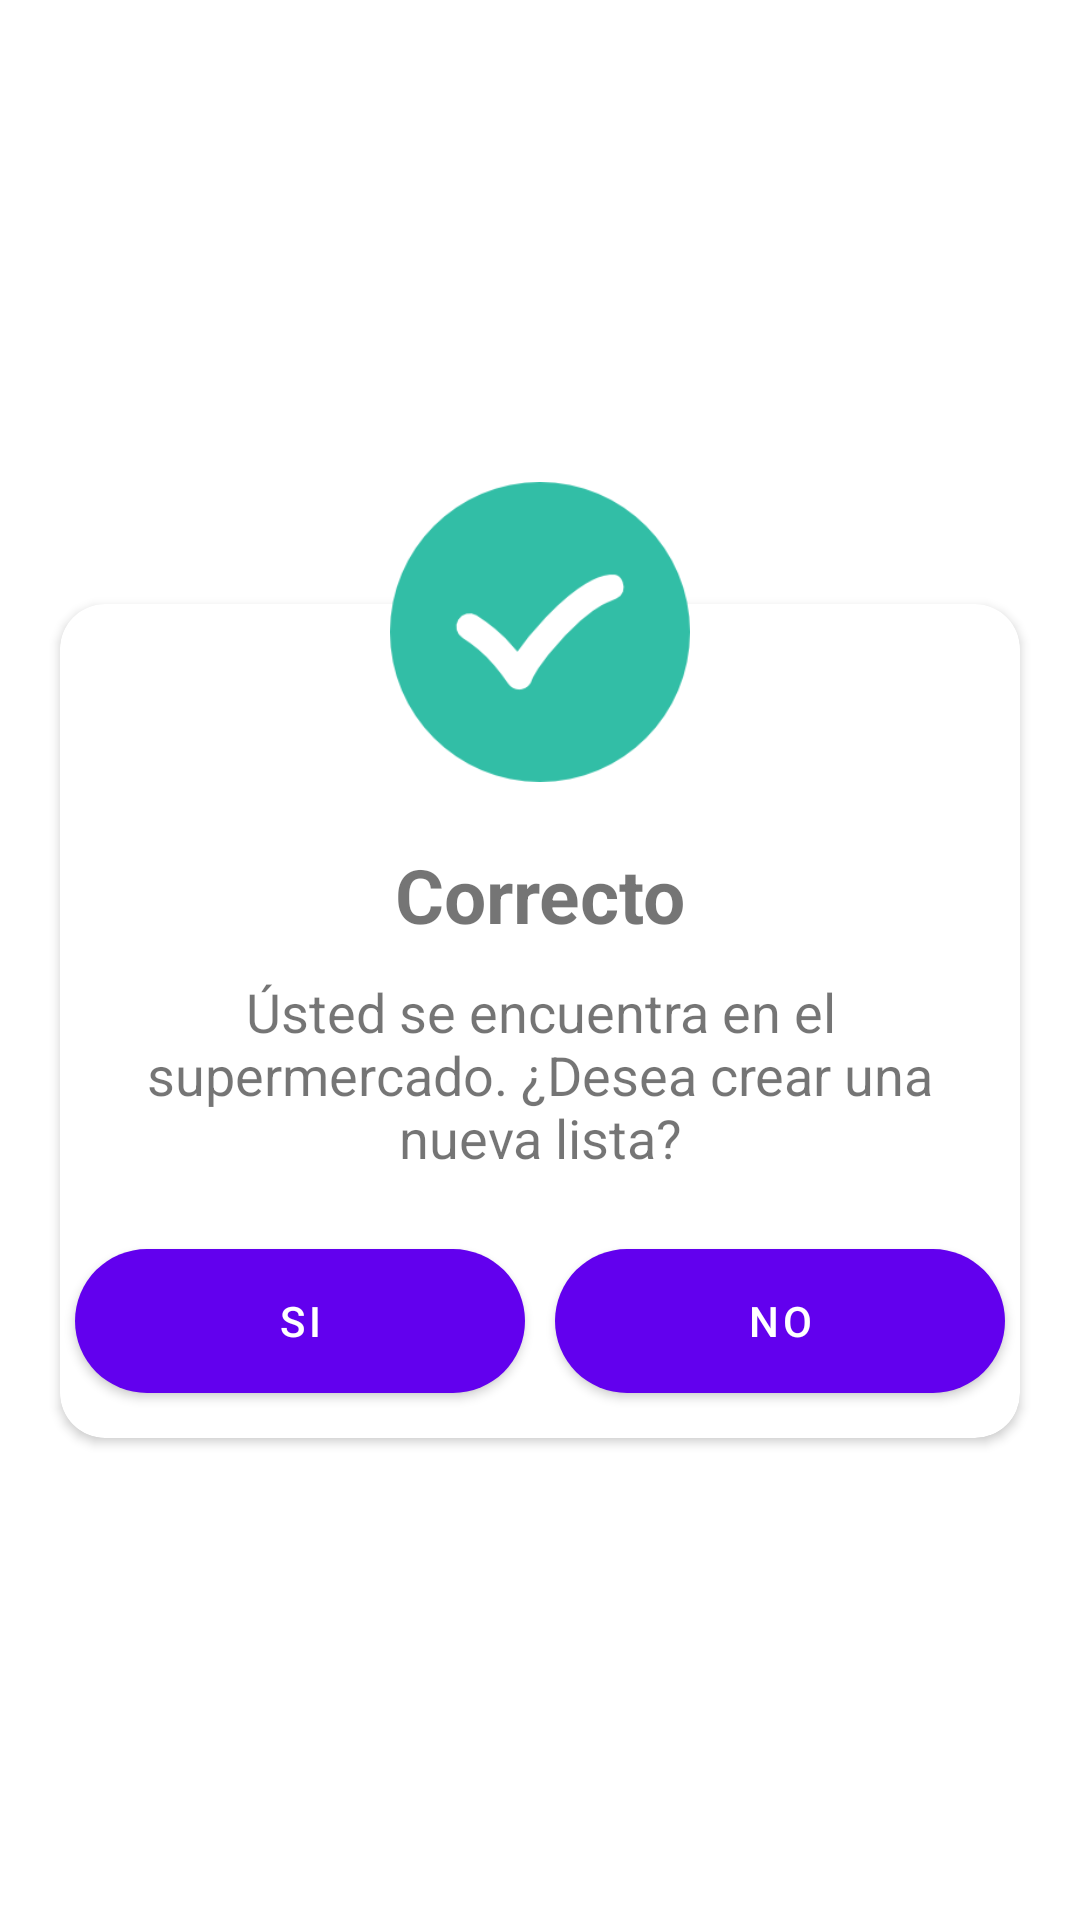

Named icons in this screenshot (1080px×1920px) and their bounding boxes, (x1, y1, x2, y2):
checked: (390, 482, 690, 782)
